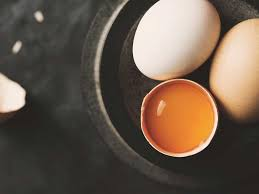eggs: (129, 0, 218, 81), (212, 15, 259, 129)
